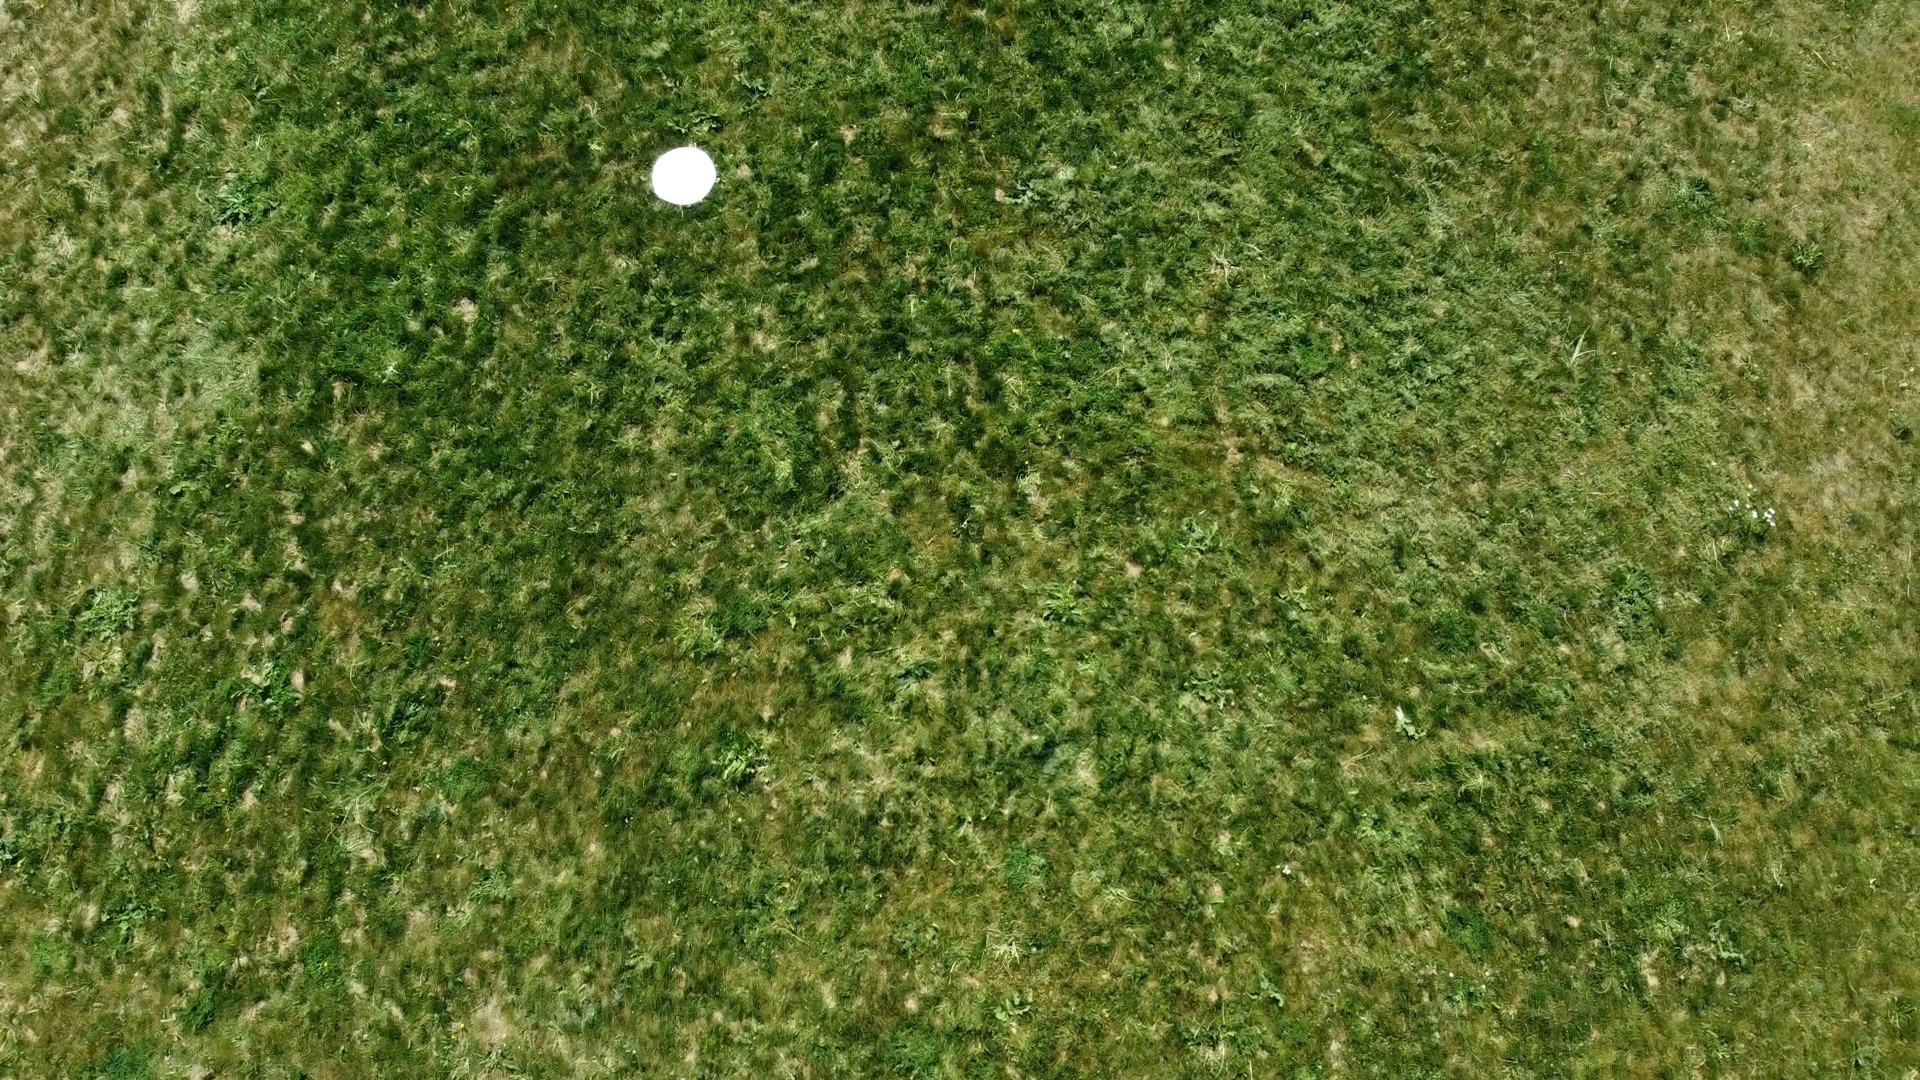Blue: (650, 142, 717, 206)
